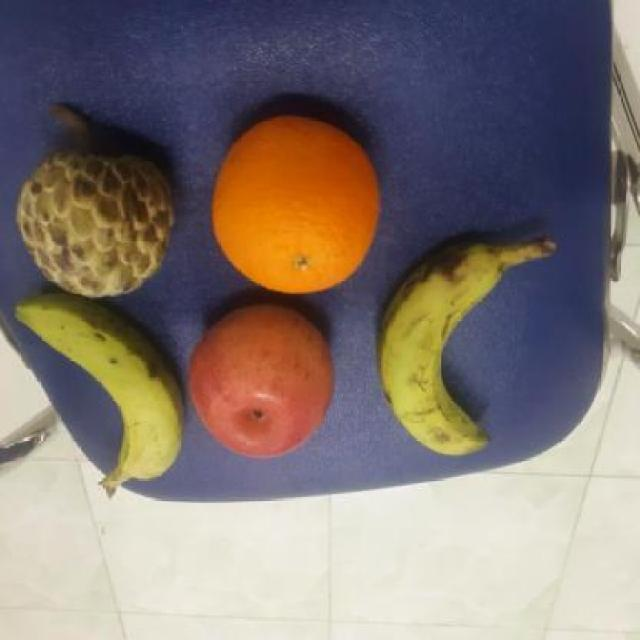apple: (186, 301, 340, 462)
banana: (8, 290, 186, 485), (372, 242, 502, 462)
oren: (213, 112, 381, 296)
sugar apple: (12, 148, 177, 300)
